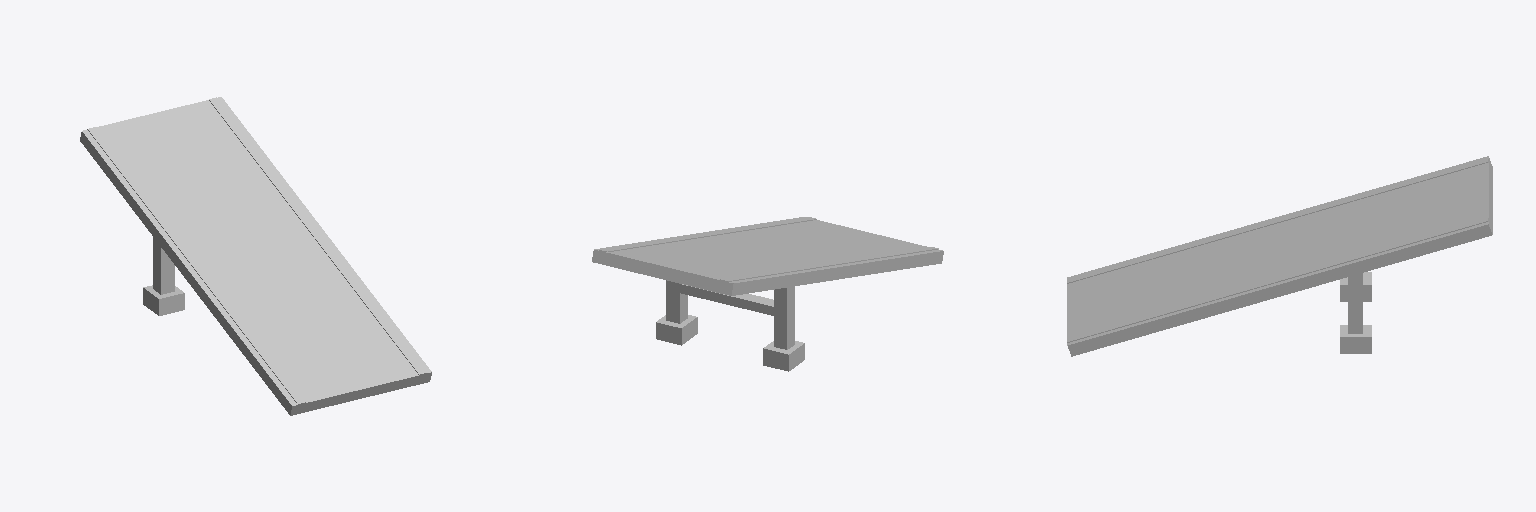
The model's file is zeroToFirstMonoRoadConnection.obj.
3 views of the same model, side by side, from view 1: azimuth 30°, elevation 25°; view 2: azimuth 150°, elevation 25°; view 3: azimuth 270°, elevation 25° (orthographic).
Parts seen in each view (by area): view 1: Cube.001, Куб.002; view 2: Cube.001, Куб.002; view 3: Cube.001, Куб.002.
Part boxes in pixels (x1,y1,x2,y2): Cube.001: (80,97,431,415); Куб.002: (143,237,184,315); Cube.001: (592,217,943,295); Куб.002: (656,280,804,371); Cube.001: (1067,156,1492,356); Куб.002: (1340,272,1371,353).
Size of the model in its own units: 2 by 1.82 by 5.27.